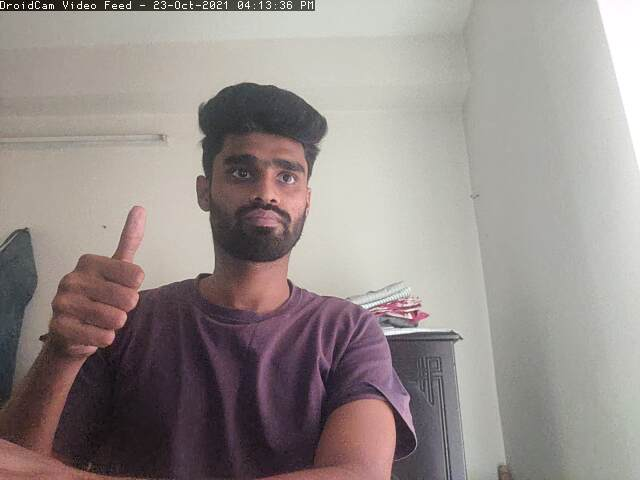ThumbsUp: (39, 202, 155, 357)
